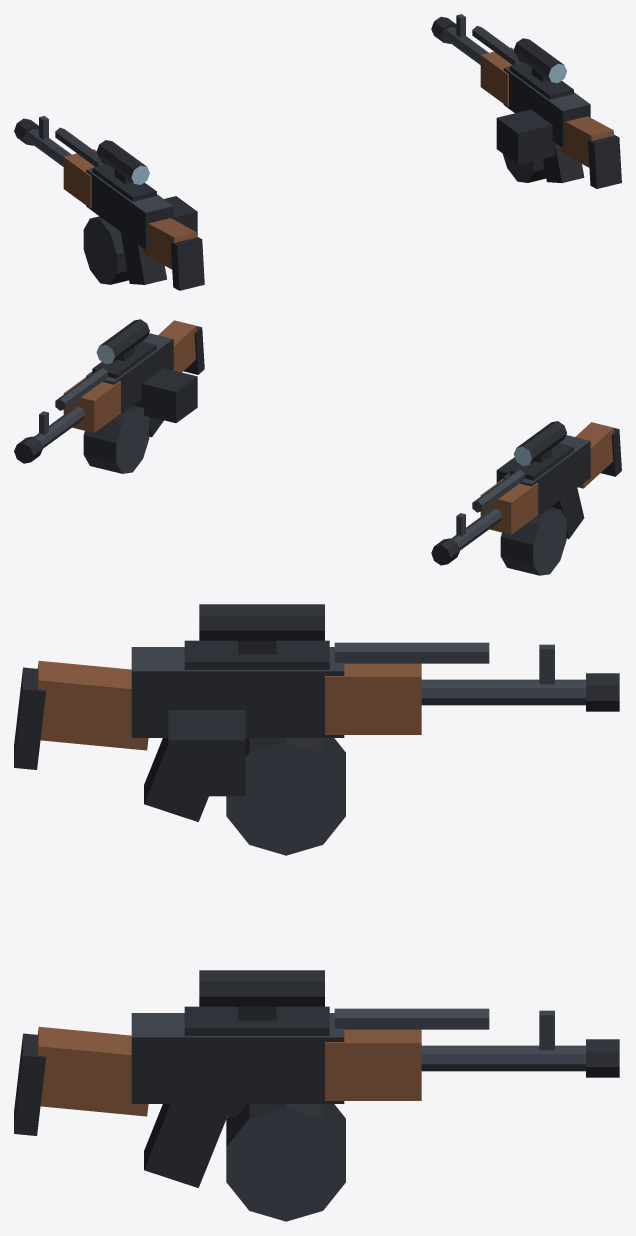
File: G_Mermo_3.fbx
The picture shows the model from 3 angles, top to bottom: view 1: azimuth 30°, elevation 25°; view 2: azimuth 150°, elevation 25°; view 3: azimuth 270°, elevation 25°; orthographic projection. The views are drawn at different scales.
Parts seen in each view (by area): view 1: G_Mermo_3; view 2: G_Mermo_3; view 3: G_Mermo_3.
Part boxes in pixels (<box>): G_Mermo_3: <box>14,14,621,290</box>; G_Mermo_3: <box>14,319,621,575</box>; G_Mermo_3: <box>14,604,619,1221</box>.
Size of the model in its own units: 1.21 by 0.3375 by 0.7863.
